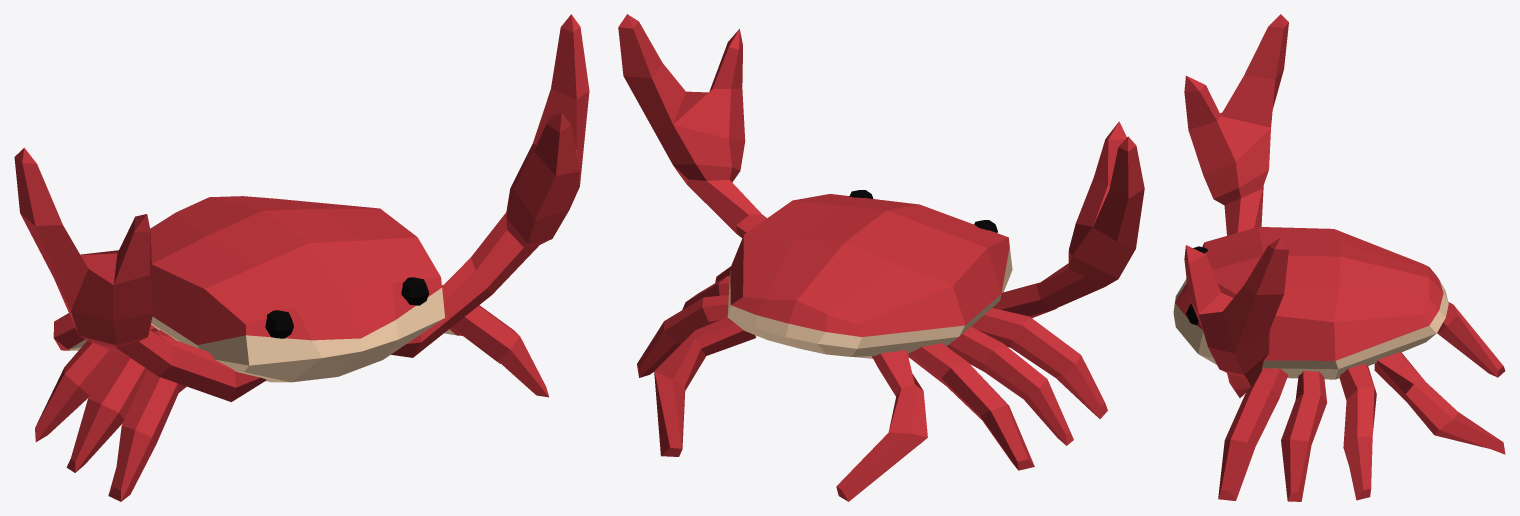
File: crab.glb
3 renders of one model, left to right at view 1: azimuth 30°, elevation 25°; view 2: azimuth 150°, elevation 25°; view 3: azimuth 270°, elevation 25°, orthographic. The views are drawn at different scales.
Visible parts, largest first — view 1: crab; view 2: crab; view 3: crab.
Boxes of the visible parts, x1=… form: crab: x1=14, y1=14, x2=589, y2=501; crab: x1=618, y1=14, x2=1144, y2=501; crab: x1=1173, y1=14, x2=1505, y2=501.
Bounding box in the file's own units: 0.2996 × 0.1762 × 0.1844.
